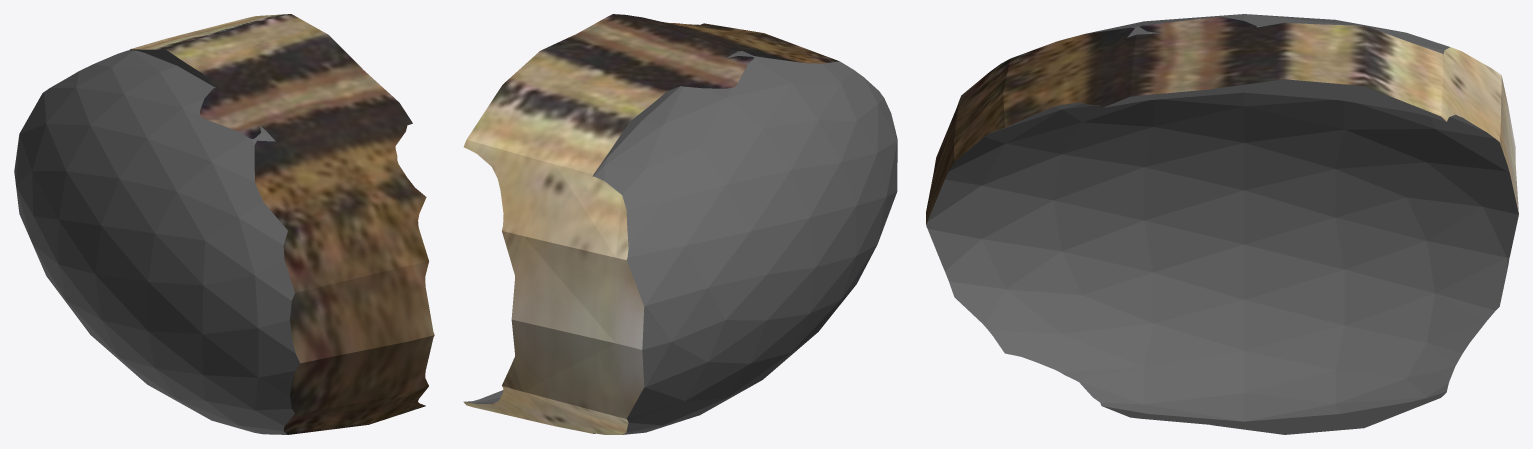
3 views of the same model, side by side, from view 1: azimuth 30°, elevation 25°; view 2: azimuth 150°, elevation 25°; view 3: azimuth 270°, elevation 25° (orthographic). The views are drawn at different scales.
Visible parts, largest first — view 1: link_4_visual; view 2: link_4_visual; view 3: link_4_visual.
Part boxes in pixels (left/top/right/bottom): link_4_visual: left=14, top=14, right=434, bottom=434; link_4_visual: left=463, top=14, right=897, bottom=434; link_4_visual: left=926, top=14, right=1518, bottom=434.
Bounding box in the file's own units: 0.00175 × 0.00219 × 0.0033.
Materials: 1 (1 with a texture image).
